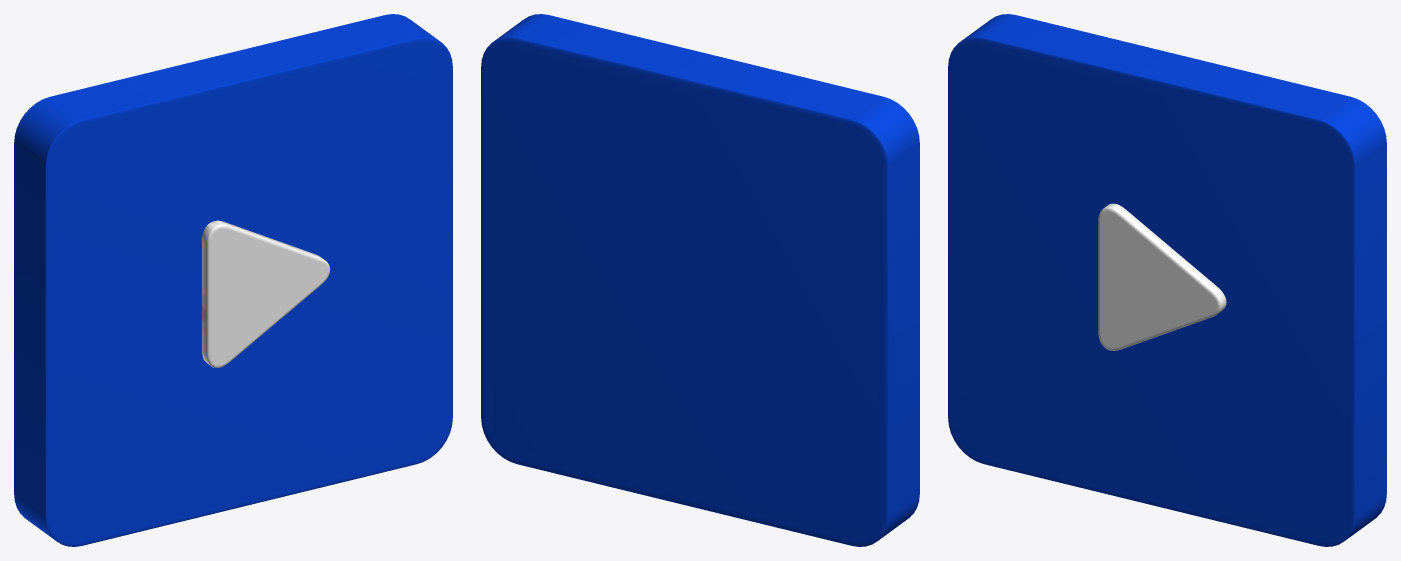
File: play.glb
3 renders of one model, left to right at view 1: azimuth 30°, elevation 25°; view 2: azimuth 150°, elevation 25°; view 3: azimuth 330°, elevation 25°, orthographic.
Parts seen in each view (by area): view 1: Cube.002, Curve.020; view 2: Cube.002; view 3: Cube.002, Curve.020.
Boxes of the visible parts, x1,y1,x2,y2 form: Cube.002: (14,14,452,546); Curve.020: (202,220,330,367); Cube.002: (481,14,919,546); Cube.002: (948,14,1386,546); Curve.020: (1098,203,1226,350).
Bounding box in the file's own units: 22.62 × 22.62 × 3.73.
